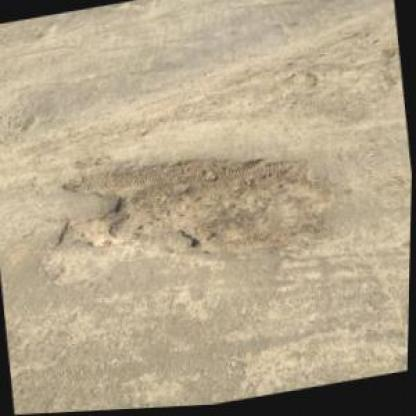pothole: (48, 127, 346, 292)
